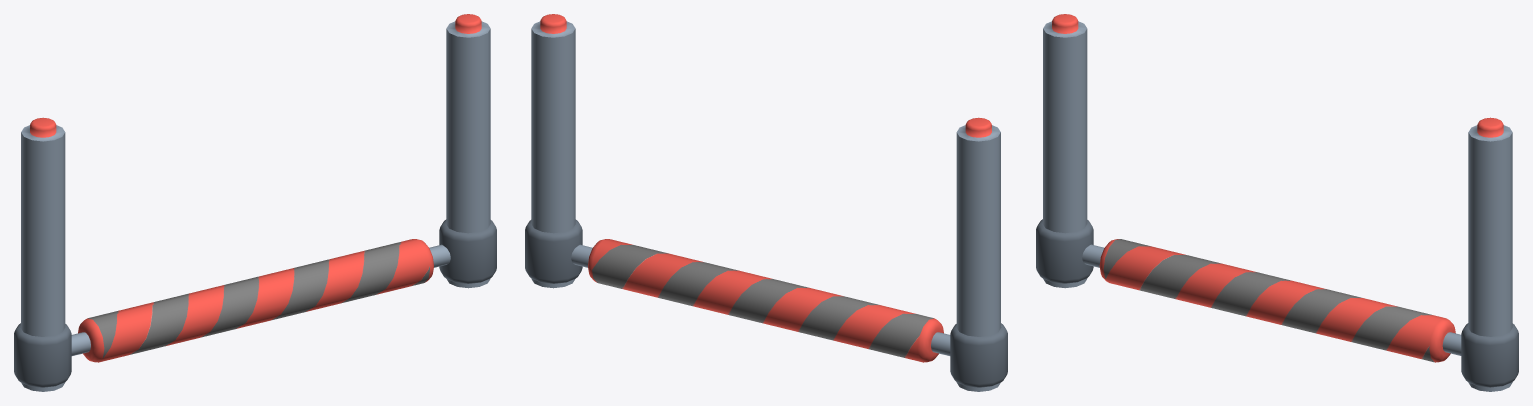
Rendered from HorizontalStickLong02.fbx.
The picture shows the model from 3 angles, left to right: view 1: azimuth 30°, elevation 25°; view 2: azimuth 150°, elevation 25°; view 3: azimuth 330°, elevation 25°; orthographic projection.
Parts seen in each view (by area): view 1: HorizontalStickBase.002, HorizontalStick.001, HorizontalStickArm; view 2: HorizontalStickBase.002, HorizontalStick.001, HorizontalStickArm; view 3: HorizontalStickBase.002, HorizontalStick.001, HorizontalStickArm.
Boxes of the visible parts, left/top/right/bottom form: HorizontalStickBase.002: left=21, top=14, right=490, bottom=391; HorizontalStick.001: left=78, top=239, right=433, bottom=362; HorizontalStickArm: left=14, top=219, right=496, bottom=387; HorizontalStickBase.002: left=531, top=14, right=1000, bottom=391; HorizontalStick.001: left=588, top=239, right=943, bottom=362; HorizontalStickArm: left=525, top=219, right=1007, bottom=387; HorizontalStickBase.002: left=1043, top=14, right=1512, bottom=391; HorizontalStick.001: left=1099, top=239, right=1455, bottom=362; HorizontalStickArm: left=1036, top=219, right=1518, bottom=387.
Size of the model in its own units: 993 by 520 by 104.
